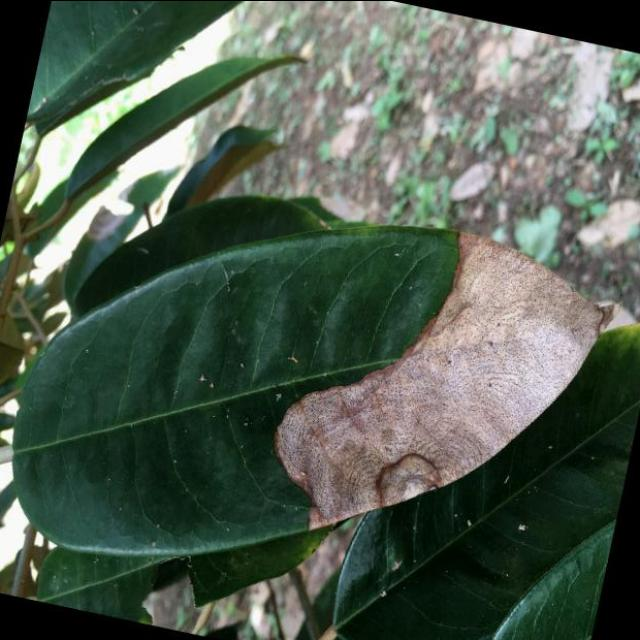Leaf Blight: (0, 135, 638, 640)
